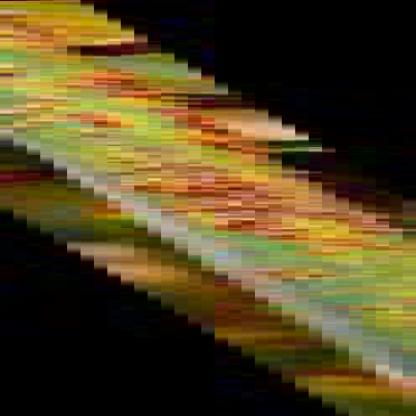wheat Stem Rust: (103, 146, 256, 206), (27, 82, 156, 139), (189, 214, 415, 241), (257, 251, 382, 297), (0, 13, 94, 53)
